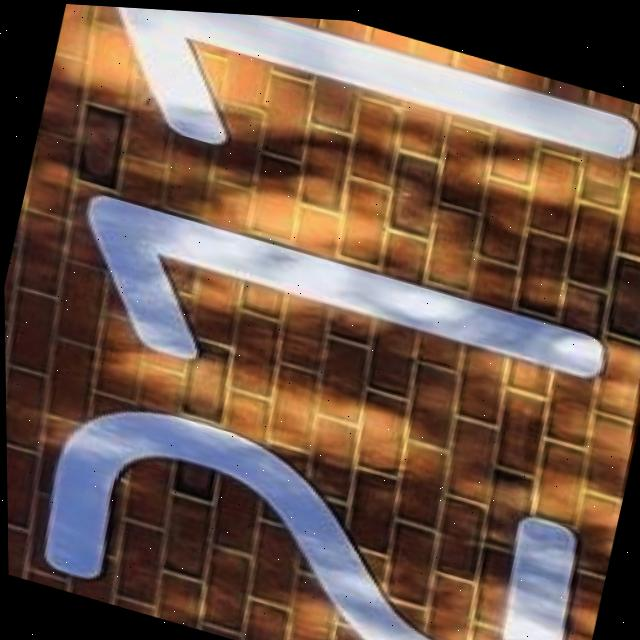character: (55, 180, 617, 478), (21, 368, 600, 640), (84, 5, 640, 265)
